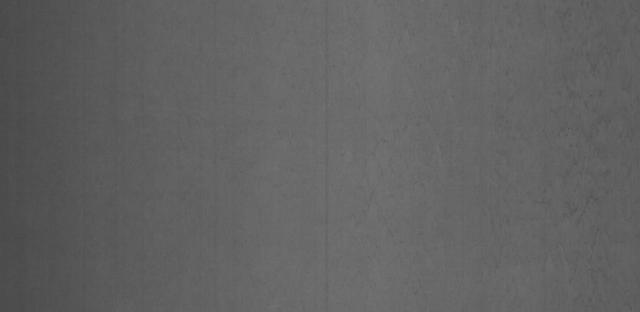silk_spot: (354, 11, 619, 295)
